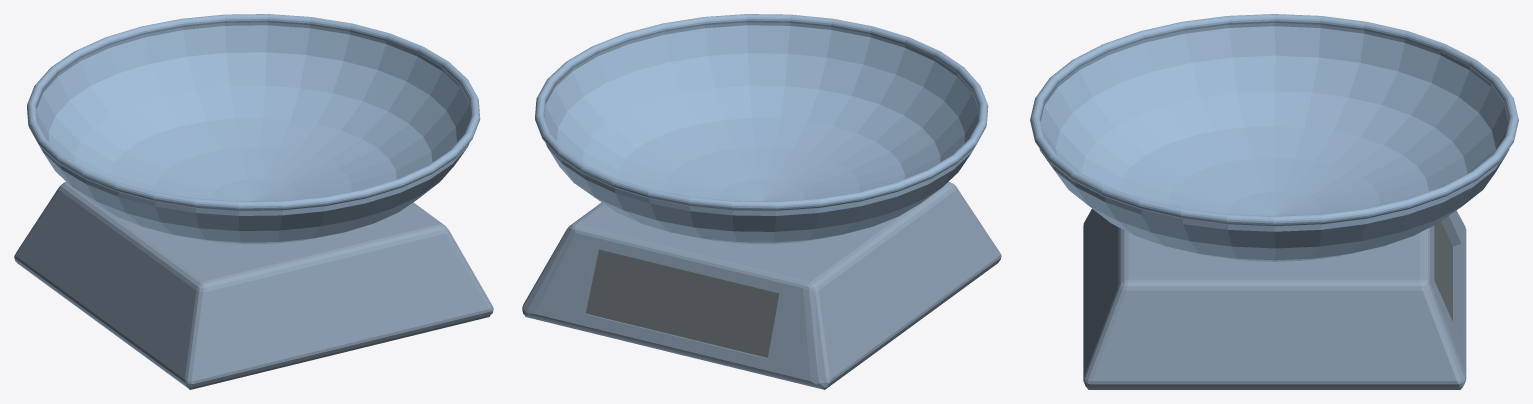
File: Scales_2.fbx
The picture shows the model from 3 angles, left to right: view 1: azimuth 30°, elevation 25°; view 2: azimuth 150°, elevation 25°; view 3: azimuth 270°, elevation 25°; orthographic projection. The views are drawn at different scales.
Visible parts, largest first — view 1: Bowl_1, Scale_1; view 2: Bowl_1, Scale_1; view 3: Bowl_1, Scale_1.
Part boxes in pixels (x1=…): Bowl_1: x1=27, y1=14, x2=480, y2=243; Scale_1: x1=14, y1=181, x2=493, y2=389; Bowl_1: x1=535, y1=14, x2=988, y2=243; Scale_1: x1=522, y1=181, x2=1001, y2=389; Bowl_1: x1=1030, y1=14, x2=1518, y2=261; Scale_1: x1=1083, y1=209, x2=1466, y2=389.
Bounding box in the file's own units: 204 × 90.34 × 204.
